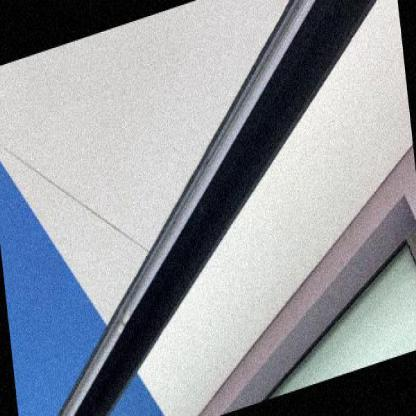light_off: (6, 0, 387, 415)
